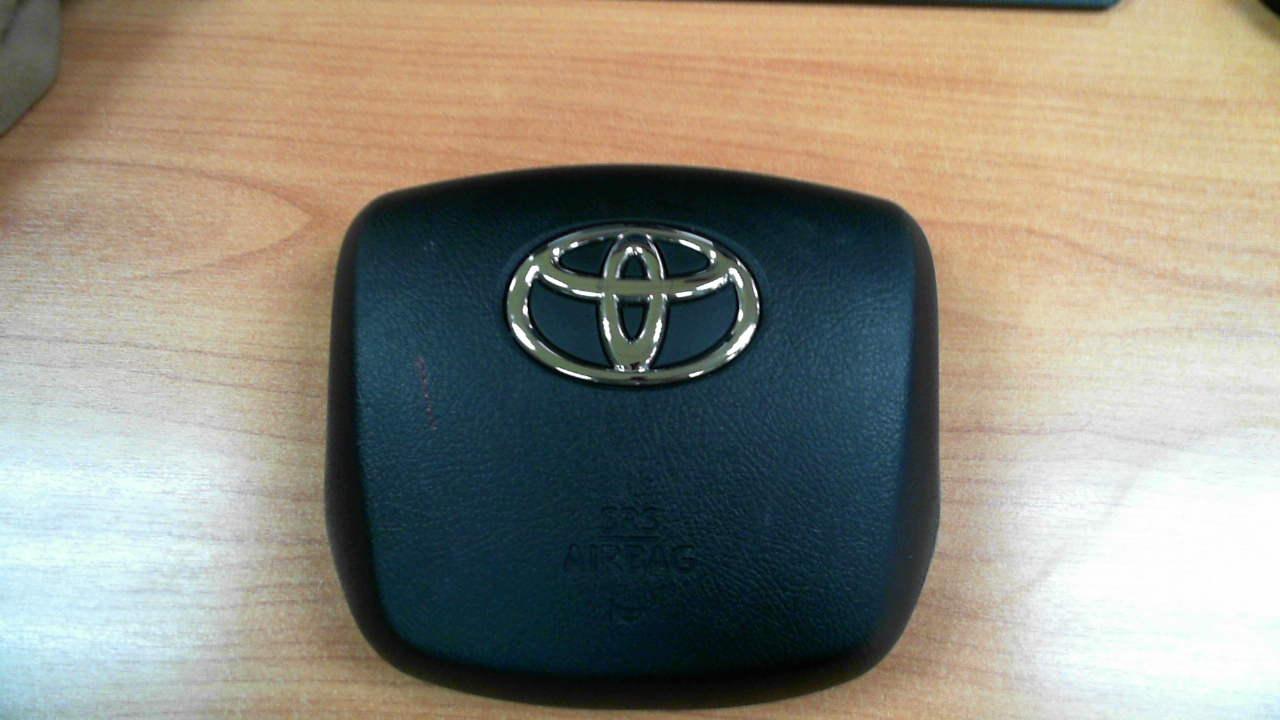Airbag: (338, 172, 936, 699)
Toyota: (506, 223, 761, 386)
